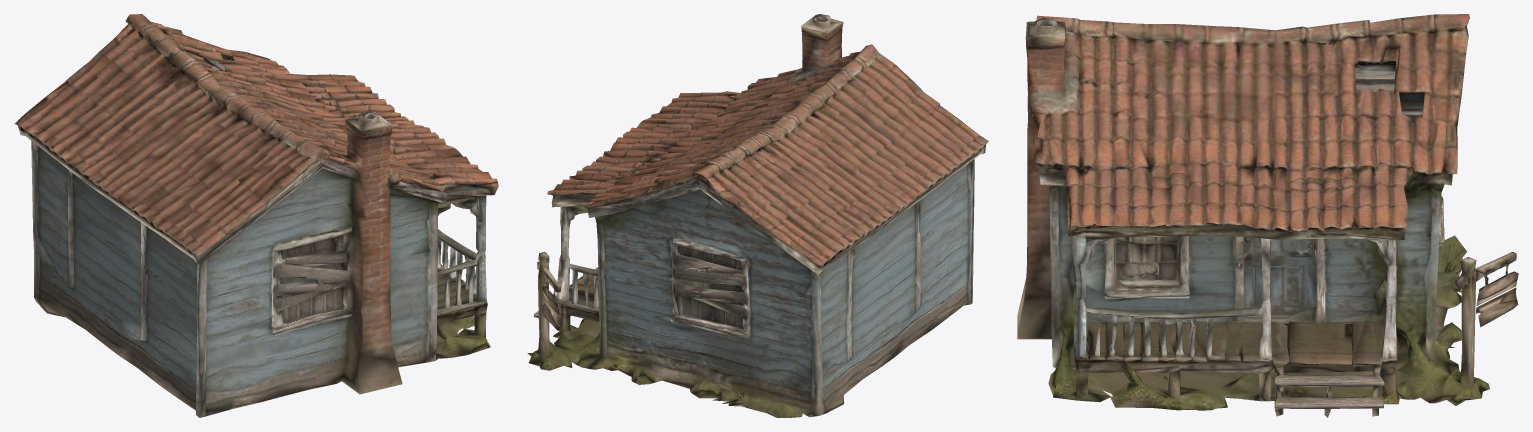
File: casa-velha.glb
3 views of the same model, side by side, from view 1: azimuth 30°, elevation 25°; view 2: azimuth 150°, elevation 25°; view 3: azimuth 270°, elevation 25° (orthographic). The views are drawn at different scales.
Parts seen in each view (by area): view 1: tripo_node_a3720270-dc3d-4905-8e10-76184744fd01; view 2: tripo_node_a3720270-dc3d-4905-8e10-76184744fd01; view 3: tripo_node_a3720270-dc3d-4905-8e10-76184744fd01.
Part boxes in pixels (left/top/right/bottom): tripo_node_a3720270-dc3d-4905-8e10-76184744fd01: left=14, top=14, right=498, bottom=417; tripo_node_a3720270-dc3d-4905-8e10-76184744fd01: left=527, top=14, right=988, bottom=417; tripo_node_a3720270-dc3d-4905-8e10-76184744fd01: left=1017, top=14, right=1518, bottom=417.
Bounding box in the file's own units: 1.33 × 1 × 1.47.
1 material, 1 textured.
